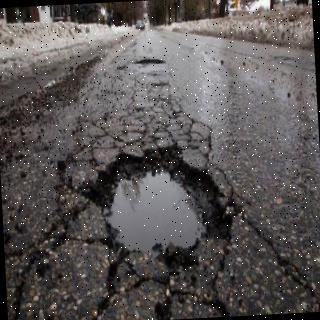pothole: (76, 142, 241, 320), (133, 57, 164, 68)
